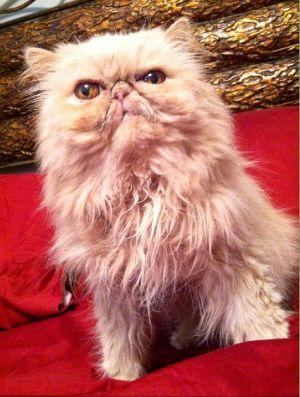persian: (23, 16, 215, 173)
